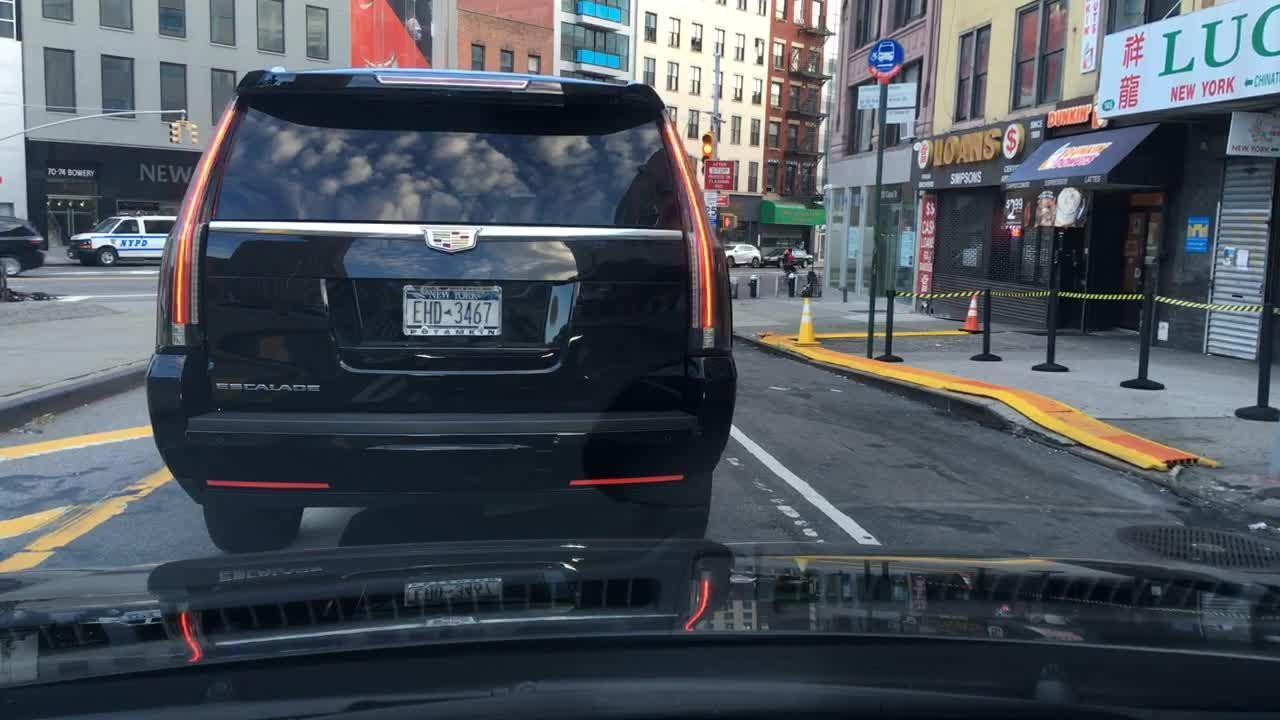cadillac: (412, 218, 484, 260)
